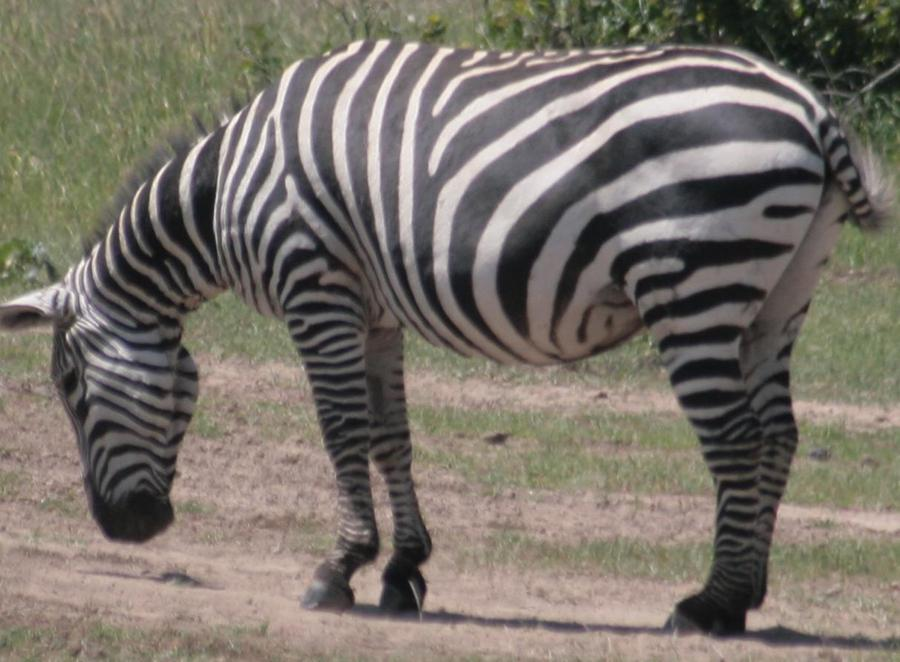zebra_plains: (211, 4, 812, 425)
